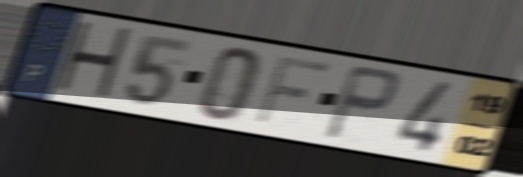0: (196, 44, 262, 124)
4: (391, 79, 461, 156)
5: (124, 32, 197, 109)
F: (250, 52, 335, 128)
H: (49, 17, 136, 105)
P: (320, 62, 403, 144)
